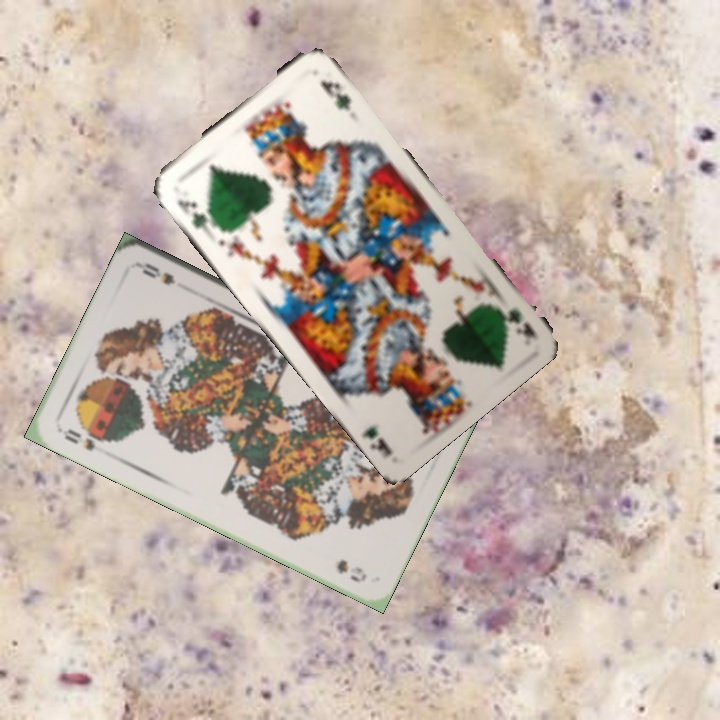GK: (491, 299, 539, 341), (173, 195, 216, 235)
SO: (60, 425, 98, 454)
